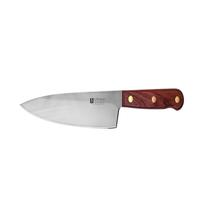knife: (13, 82, 191, 140)
